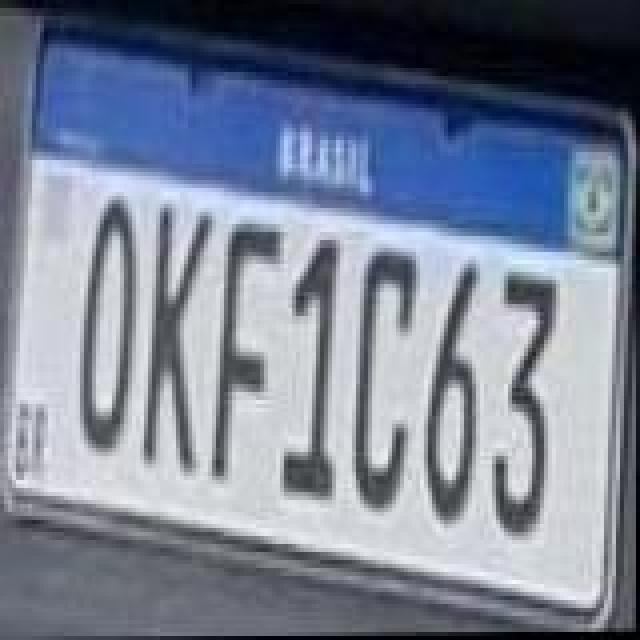1: (280, 230, 340, 498)
3: (490, 270, 562, 542)
6: (424, 260, 484, 528)
C: (354, 246, 426, 514)
F: (210, 216, 282, 484)
K: (146, 200, 218, 476)
O: (78, 192, 142, 452)
